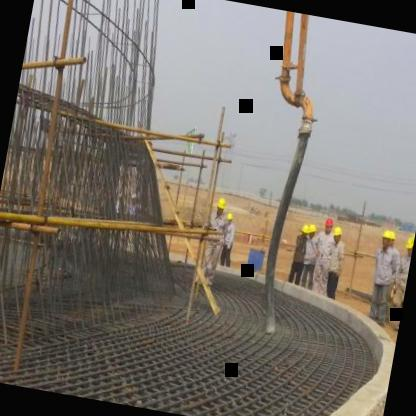helmet: (402, 226, 416, 258), (330, 223, 344, 247), (322, 213, 335, 235), (214, 193, 227, 214), (380, 228, 393, 249), (298, 221, 310, 240), (306, 222, 318, 238), (225, 210, 236, 225)
